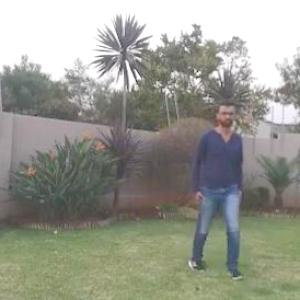follow: (200, 99, 245, 255)
